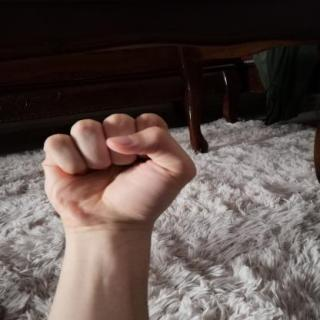SAD: (26, 103, 210, 242)
